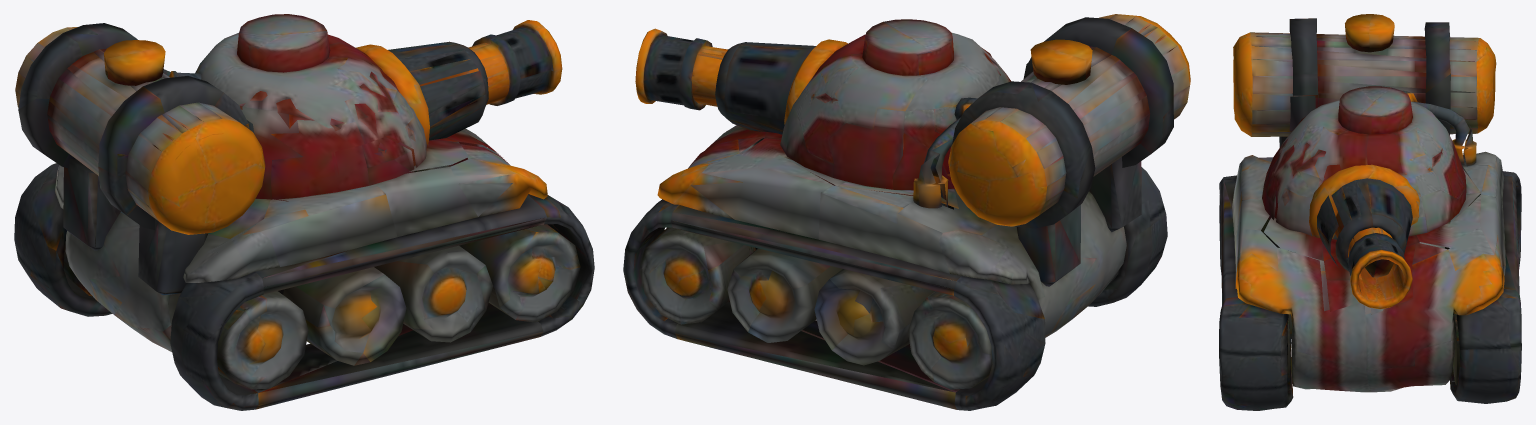
Rendered from flame_tank.glb.
3 renders of one model, left to right at view 1: azimuth 30°, elevation 25°; view 2: azimuth 150°, elevation 25°; view 3: azimuth 270°, elevation 25°, orthographic. The views are drawn at different scales.
Visible parts, largest first — view 1: hull, turret; view 2: hull, turret; view 3: hull, turret.
Part boxes in pixels (x1=…): hull: x1=14, y1=23, x2=594, y2=410; turret: x1=163, y1=14, x2=562, y2=201; hull: x1=623, y1=14, x2=1190, y2=410; turret: x1=635, y1=19, x2=1027, y2=208; hull: x1=1219, y1=14, x2=1521, y2=410; turret: x1=1264, y1=86, x2=1481, y2=314.
Bounding box in the file's own units: 1 × 0.6064 × 0.6526.
Materials: 1 (1 with a texture image).
